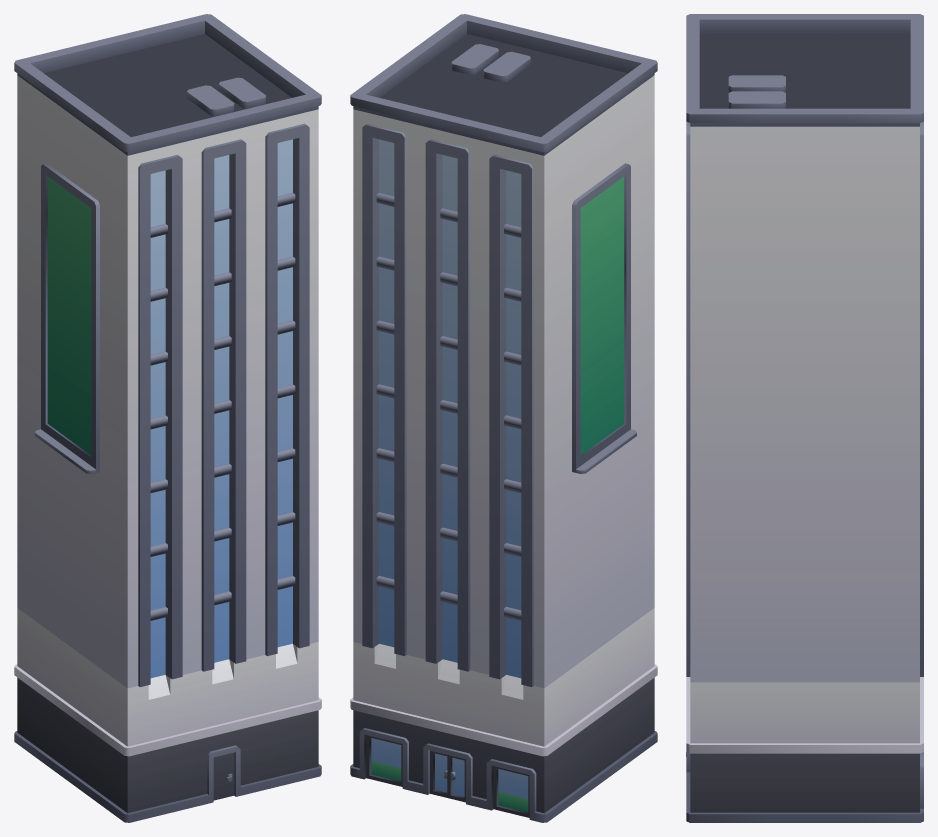
Rendered from building-skyscraper-e.glb.
3 renders of one model, left to right at view 1: azimuth 30°, elevation 25°; view 2: azimuth 150°, elevation 25°; view 3: azimuth 270°, elevation 25°, orthographic. The views are drawn at different scales.
Visible parts, largest first — view 1: building-skyscraper-e; view 2: building-skyscraper-e; view 3: building-skyscraper-e.
Part boxes in pixels (x1,y1,x2,y2): building-skyscraper-e: (14, 14, 321, 822); building-skyscraper-e: (350, 14, 657, 822); building-skyscraper-e: (686, 14, 923, 822).
Size of the model in its own units: 1.3 by 4.08 by 1.24.
Materials: 1 (1 with a texture image).
